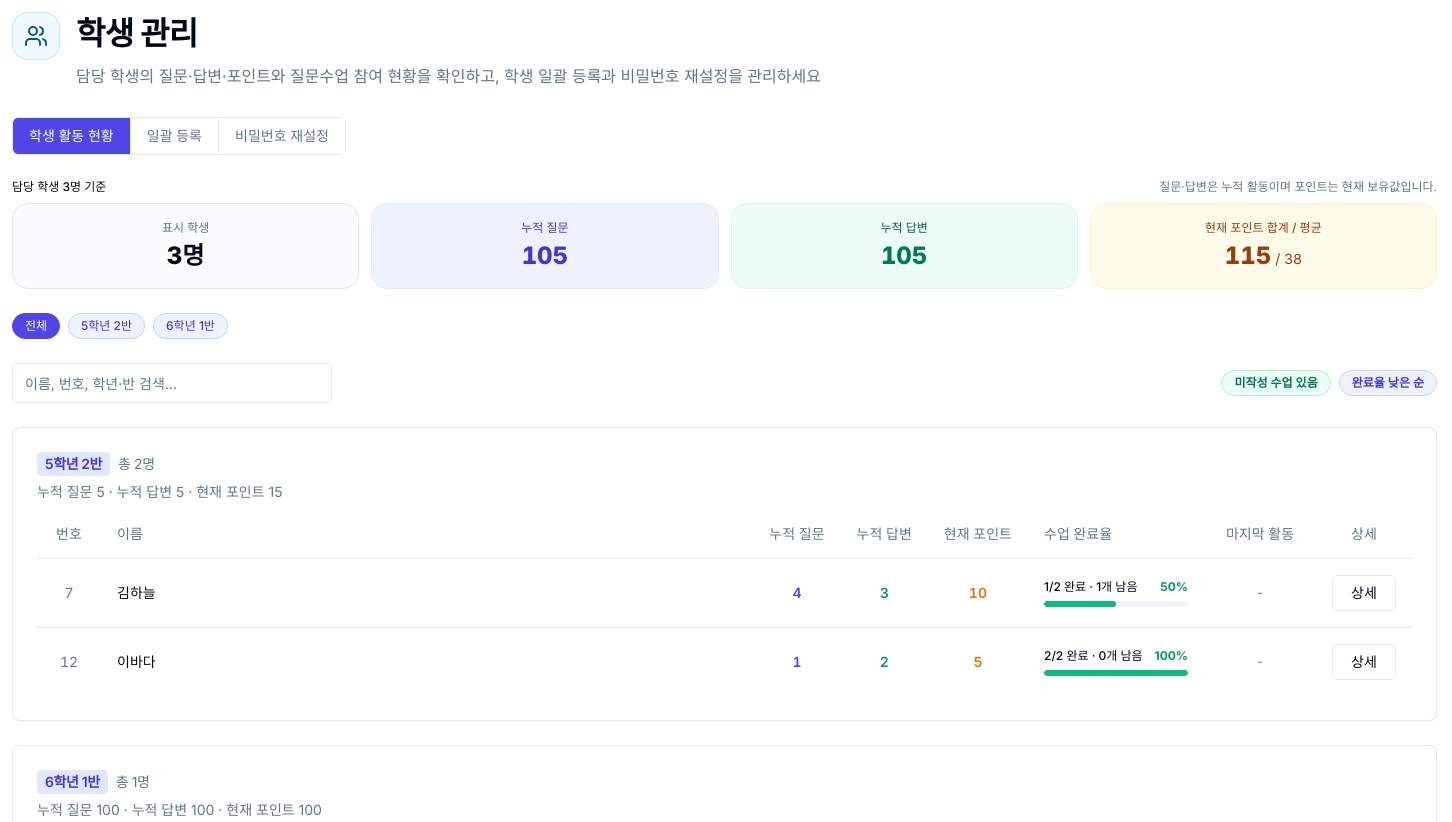
it: 학생관리 표시 범위 › 활성 필터로 학생이 없으면 필터 조건 안내와 초기화 동작을 보여준다
Click the button "5학년 2반" at (107, 326), box [68, 313, 145, 339]
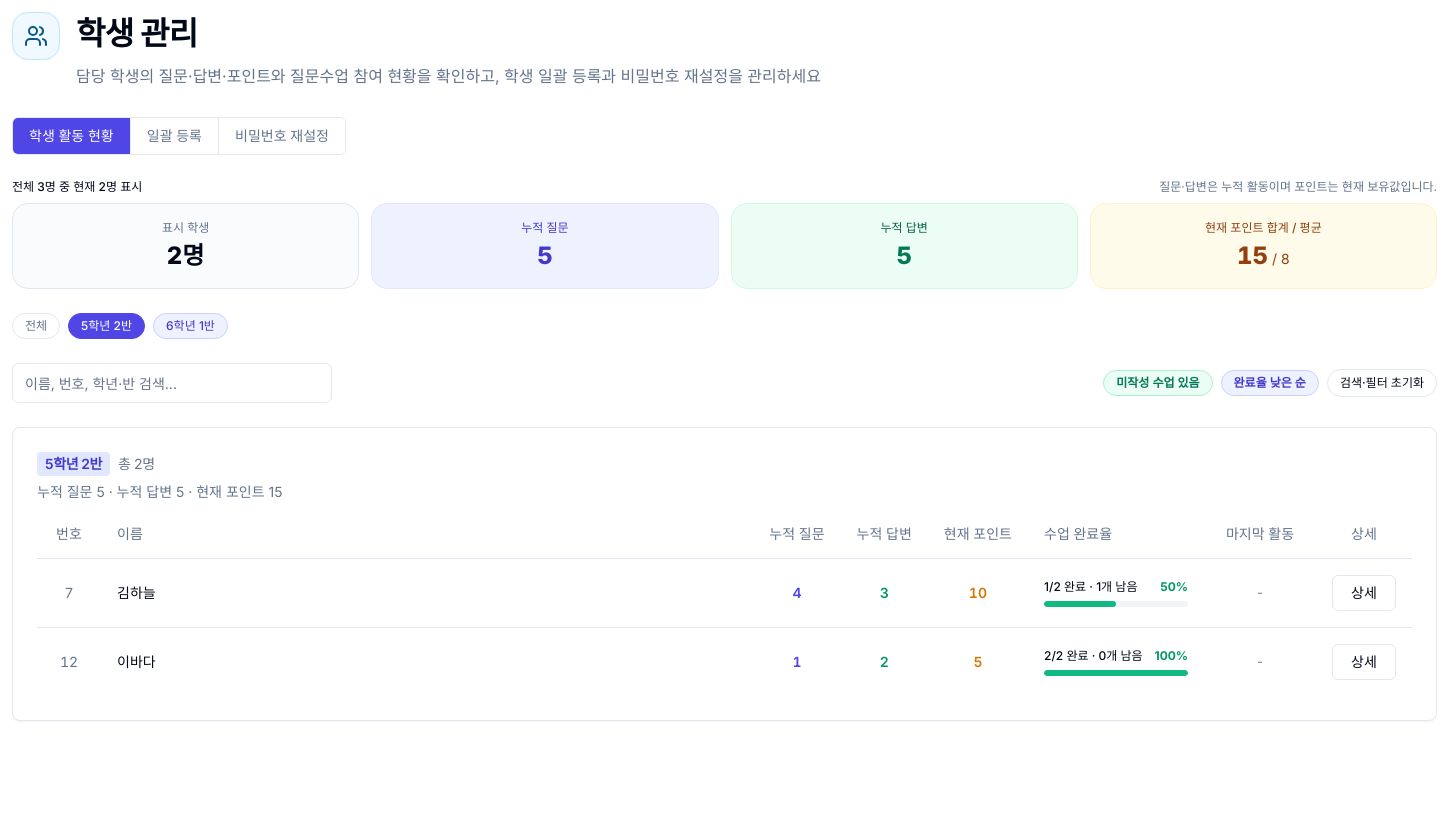
Type "박누리" into the field named "학생 검색" at (172, 383), box [12, 363, 332, 403]
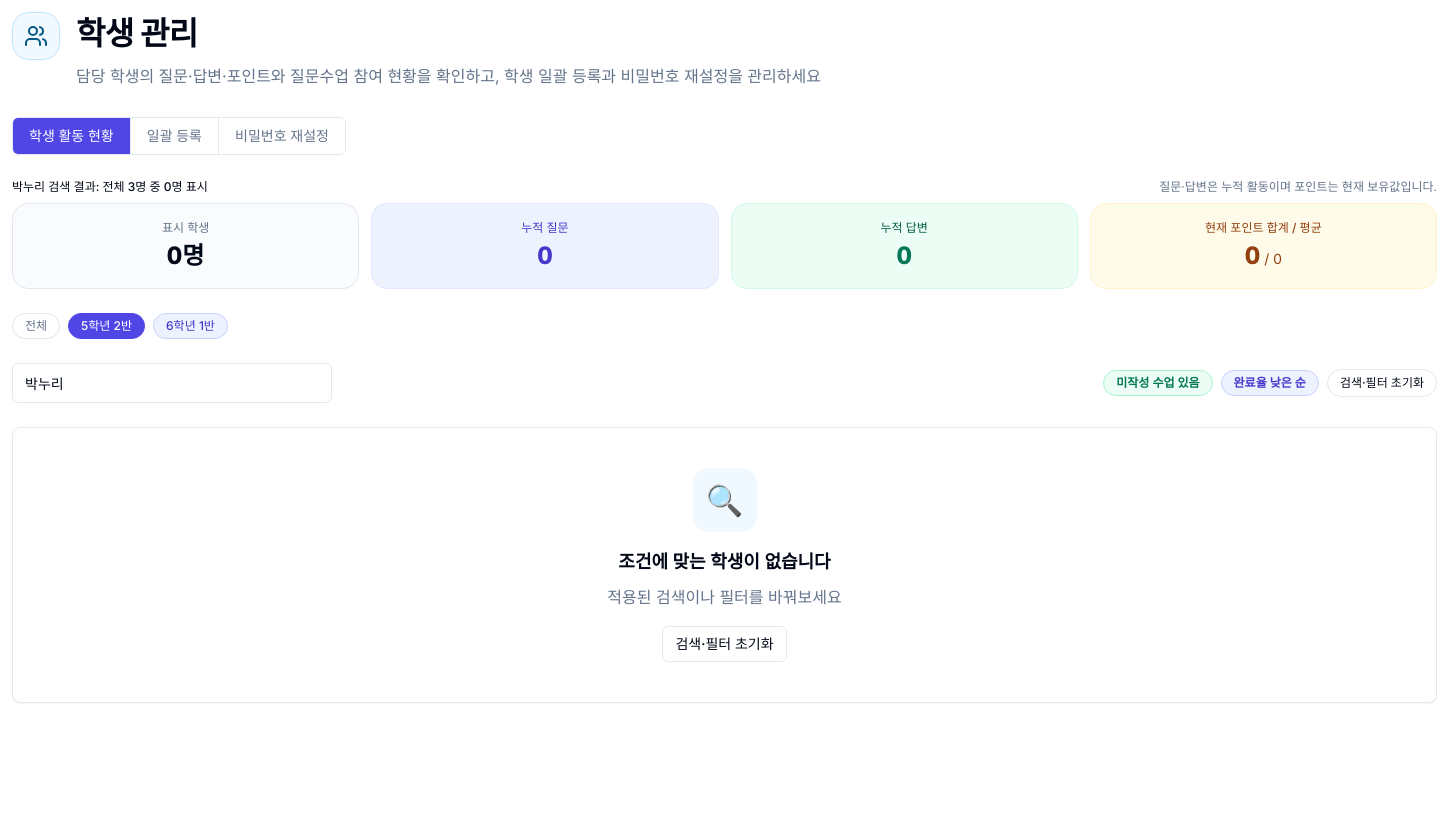
expect the text "조건에 맞는 학생이 없습니다" is shown: met, box [618, 548, 831, 576]
expect the text "적용된 검색이나 필터를 바꿔보세요" is shown: met, box [607, 584, 842, 610]
Click the button "검색·필터 초기화" below "적용된 검색이나 필터를 바꿔보세요" at (724, 644), box [662, 626, 786, 662]
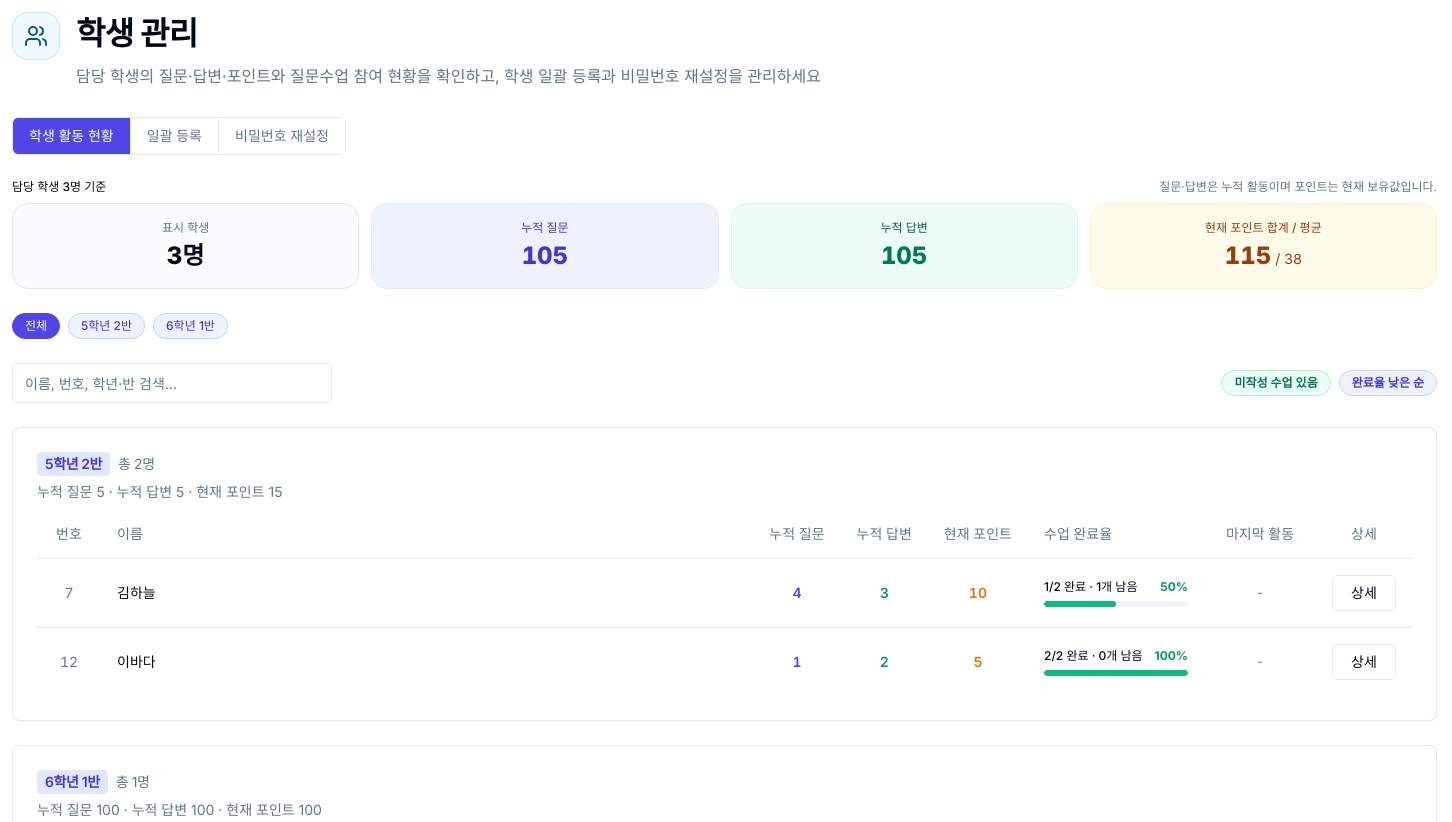
expect the field named "학생 검색" is empty: met, box [12, 363, 332, 403]
expect the text "담당 학생 3명 기준" is shown: met, box [12, 179, 106, 195]
